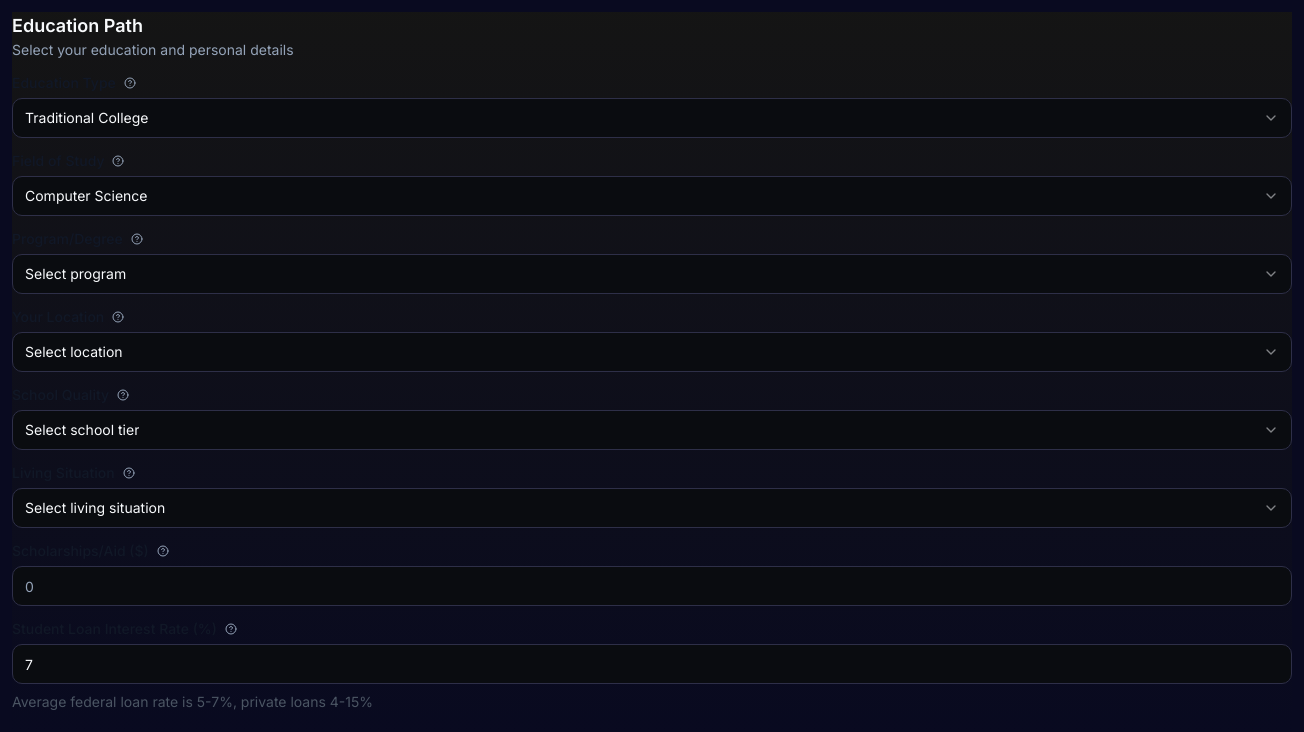
Test case: PathBuilder Component › Cascading Selections › should show program options after field is selected
What coordinates should you click on to do the following:
click the dropdown "Select program"
I would click on:
 (76, 274)
Its box is [12, 254, 1292, 294].
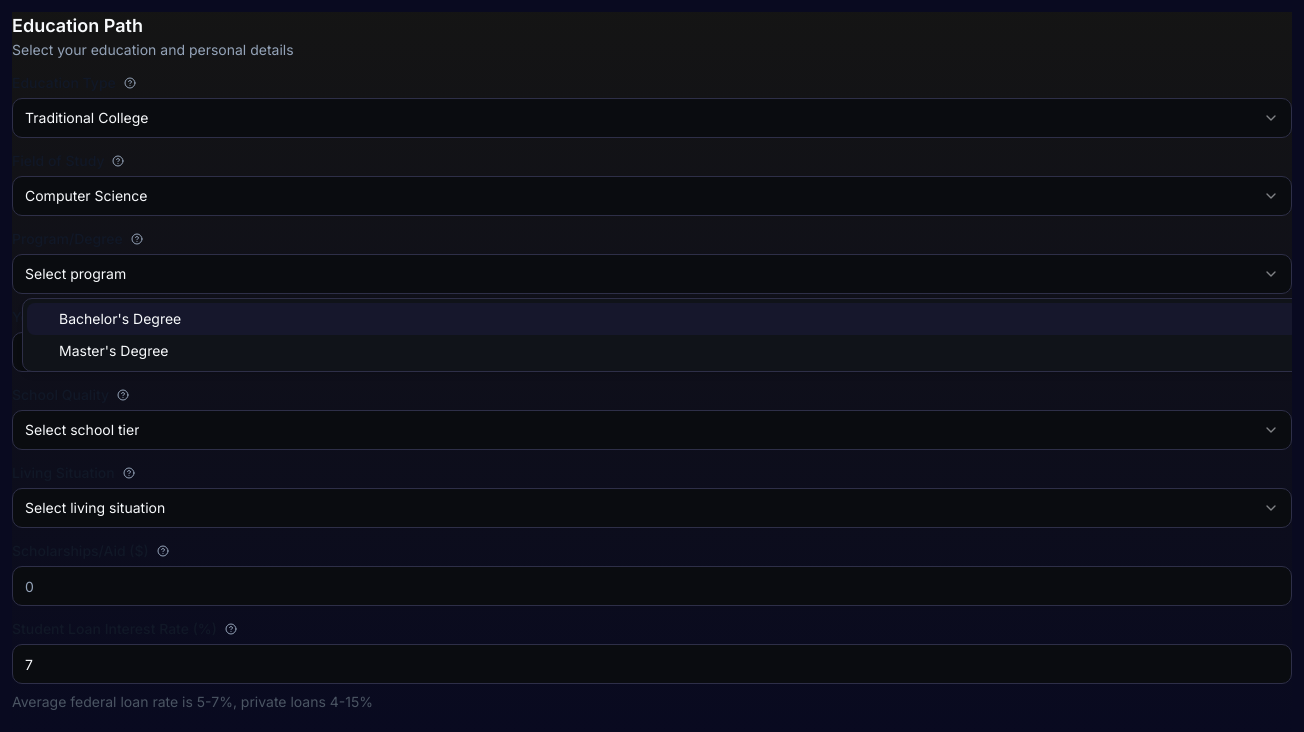
Check: the text "Bachelor's Degree" is shown, box [59, 309, 181, 329]
Check: the text "Master's Degree" is shown, box [59, 341, 168, 361]
